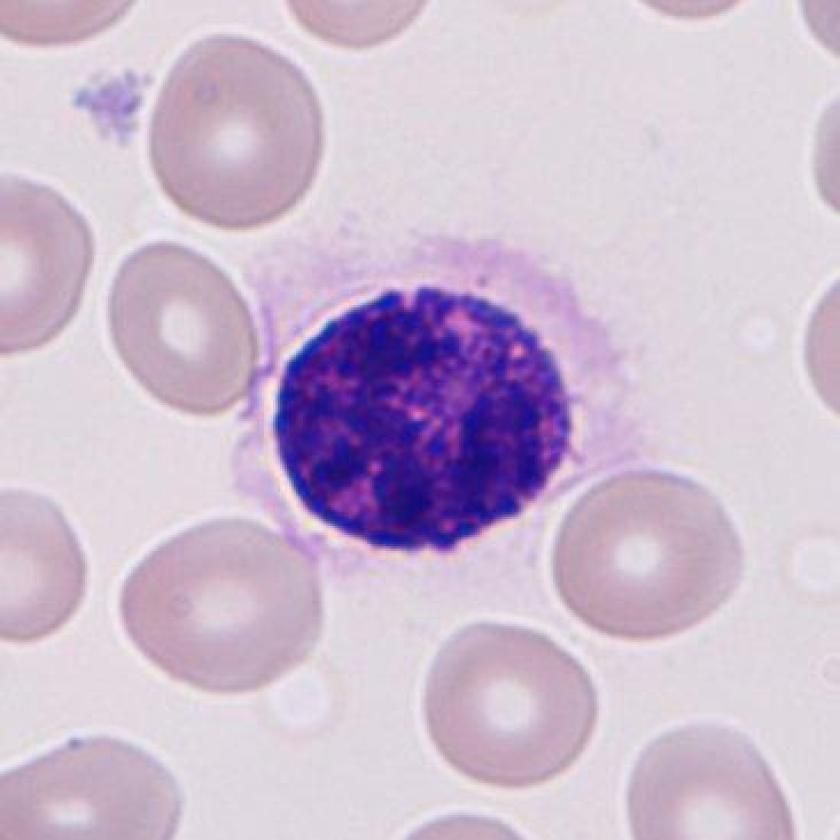basophil: (263, 274, 575, 566)
